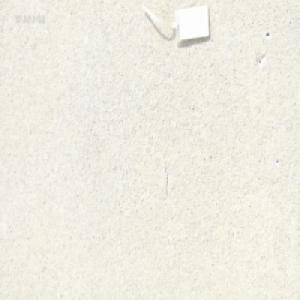LuggageTag: (137, 2, 210, 48)
